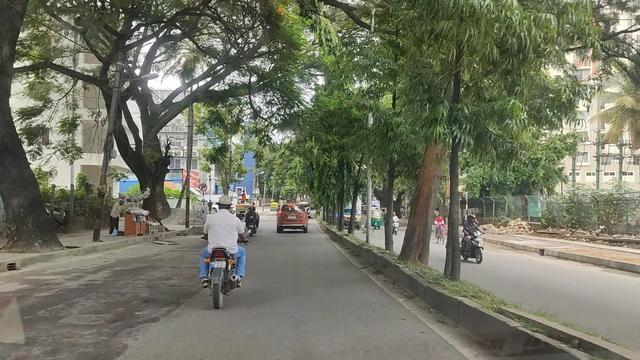LMV: (206, 198, 236, 309), (278, 202, 306, 232)
RoadDamages: (111, 302, 172, 348), (153, 234, 177, 249)
